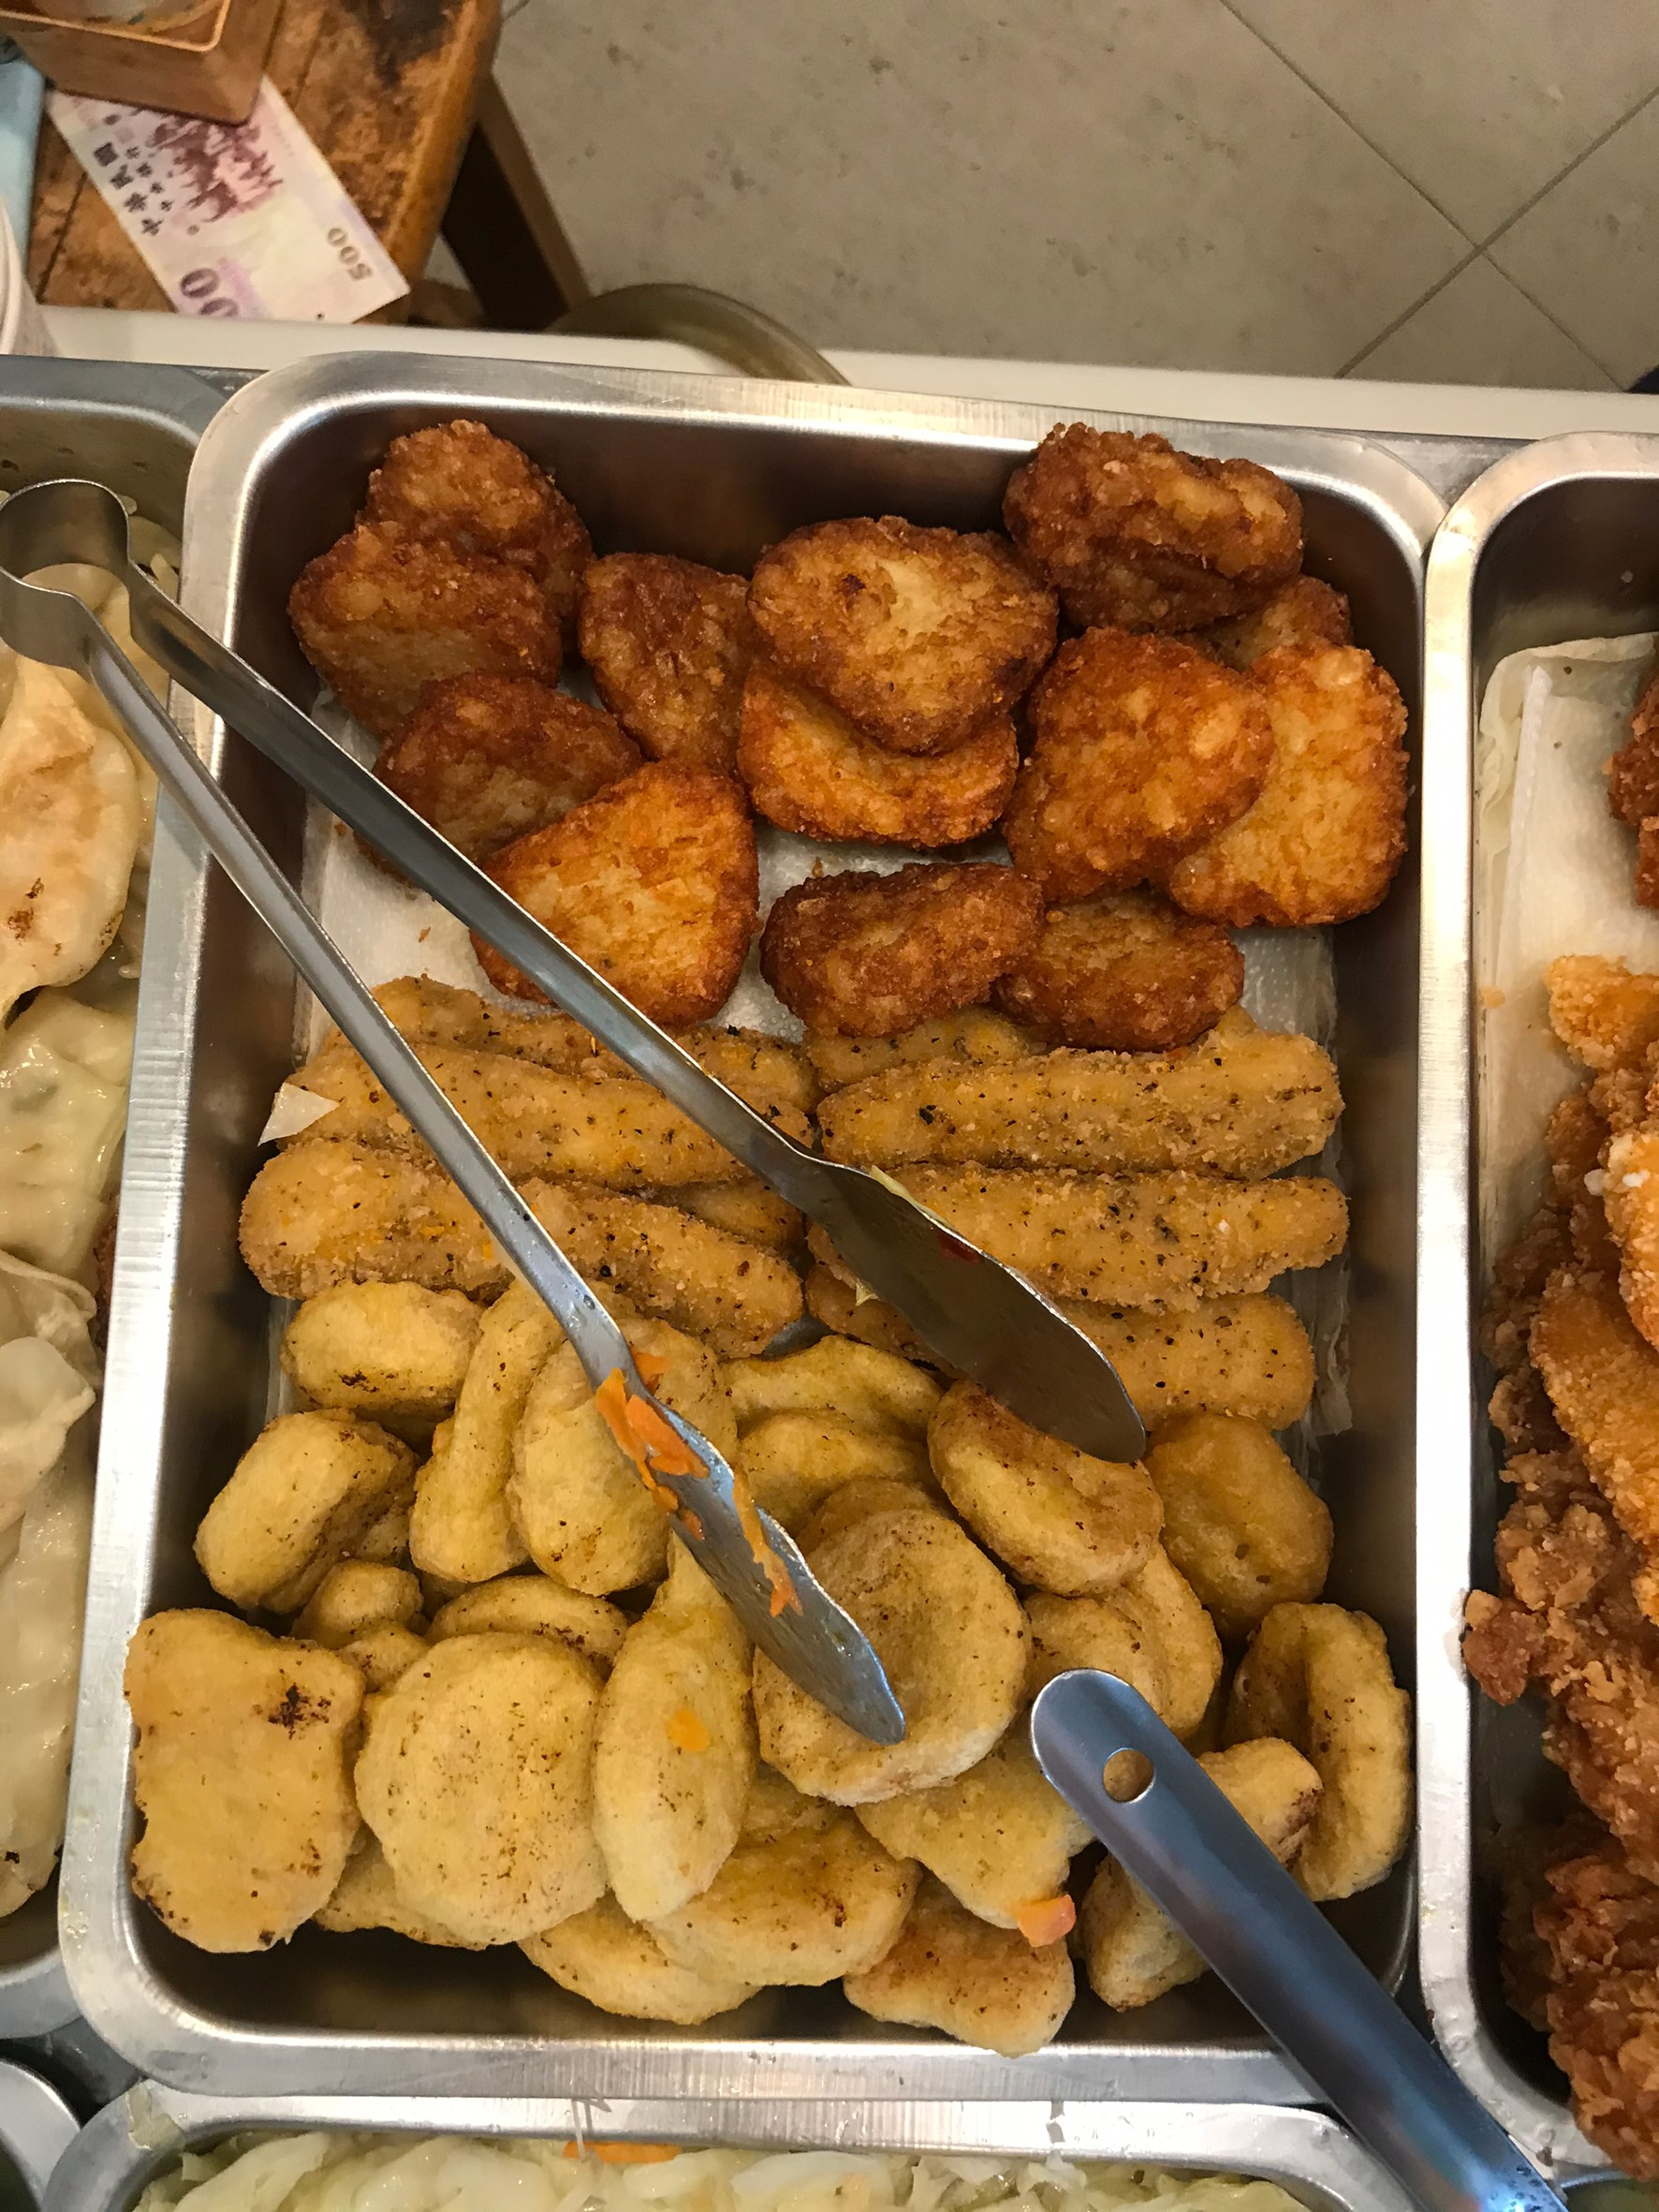chicken_nuggets: (279, 1379, 1141, 1985)
triangle_hash_brown: (343, 453, 1349, 999)
